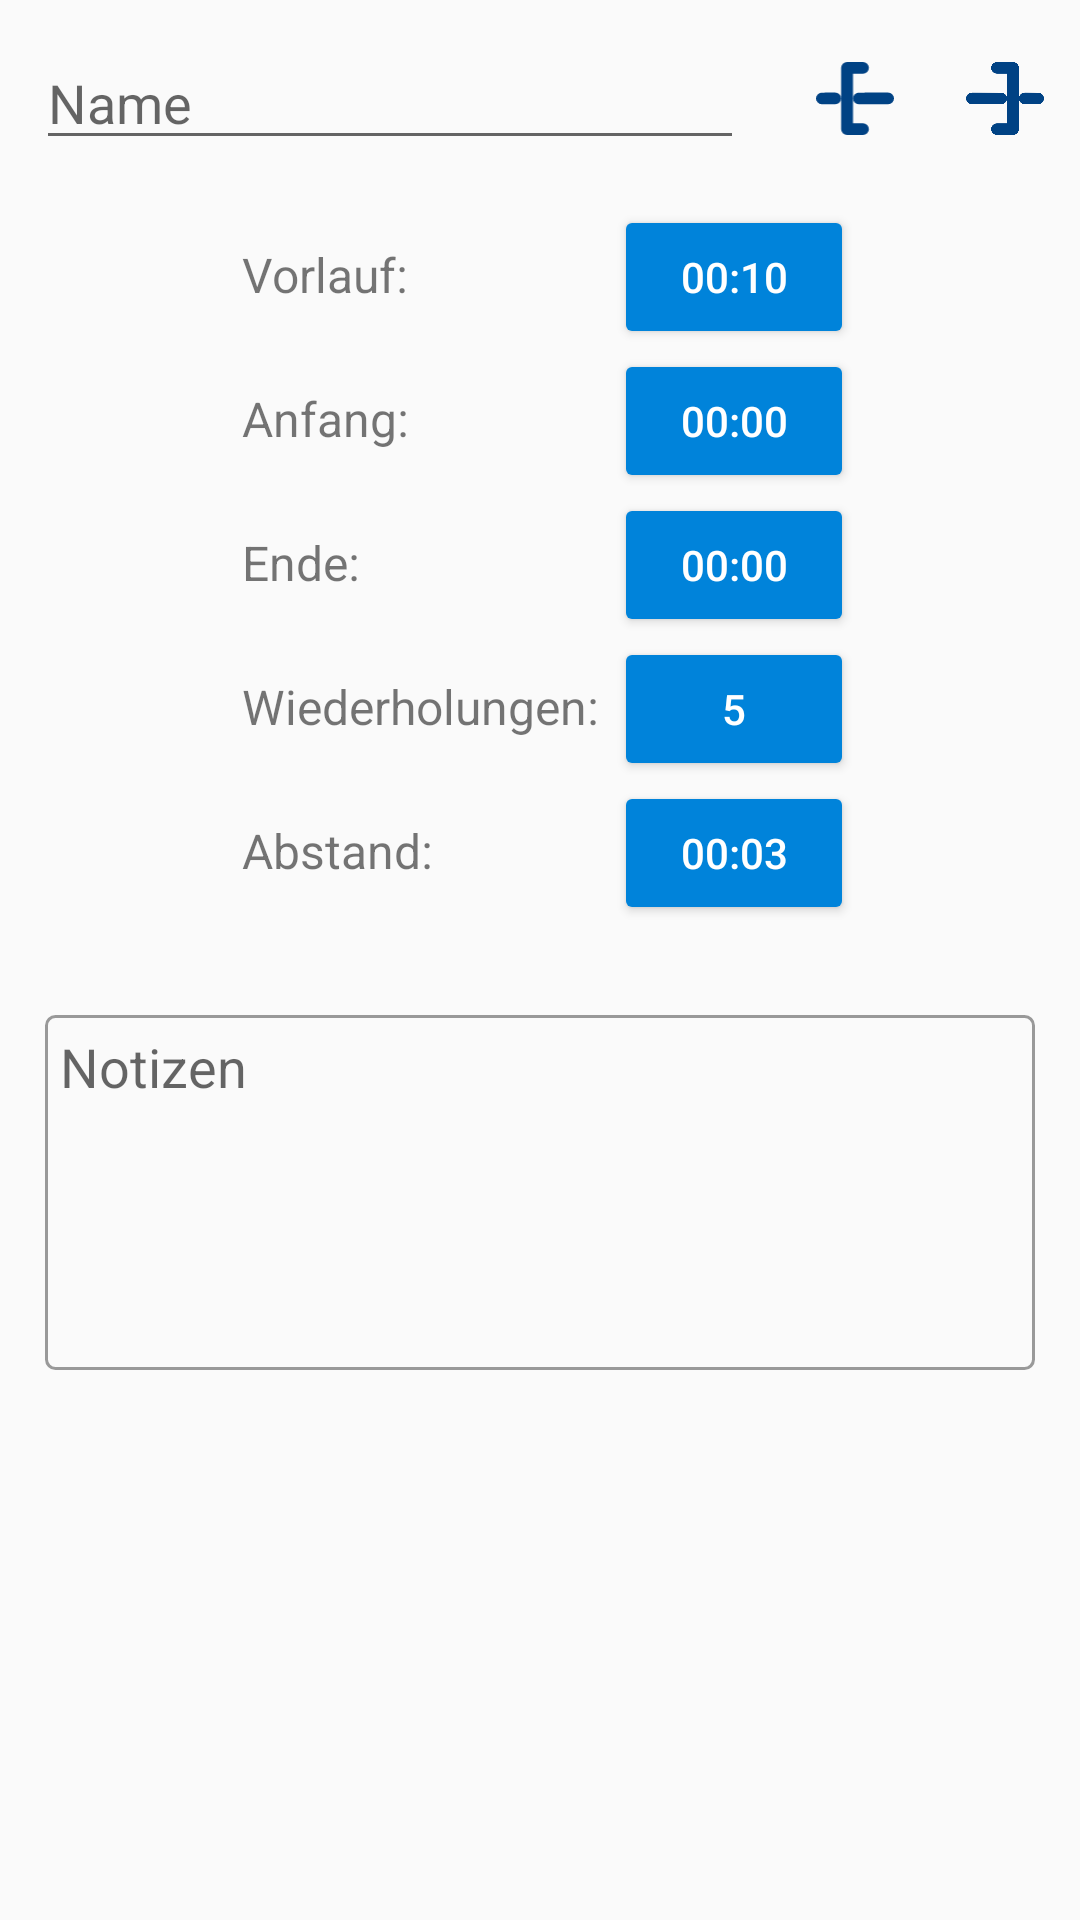

Where to tap for icons on this 1080w x 1920h app screen, as [x,y]:
Anfang setzen: [855,98]
Ende setzen: [1005,98]
